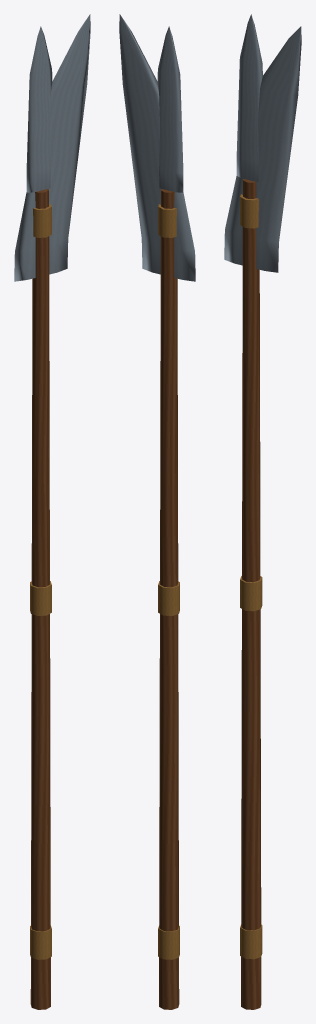
The model's file is glaive.lod2.glb.
The picture shows the model from 3 angles, left to right: view 1: azimuth 30°, elevation 25°; view 2: azimuth 150°, elevation 25°; view 3: azimuth 330°, elevation 25°; orthographic projection.
Visible parts, largest first — view 1: wood.0, blade (×2), brass.2, brass.1, brass.3; view 2: wood.0, blade (×2), brass.2, brass.1, brass.3; view 3: wood.0, blade (×2), brass.2, brass.1, brass.3.
Boxes of the visible parts, left/top/right/bottom form: wood.0: left=30, top=189, right=50, bottom=1009; blade (×2): left=14, top=14, right=90, bottom=281; brass.2: left=30, top=581, right=51, bottom=615; brass.1: left=30, top=925, right=51, bottom=959; brass.3: left=33, top=204, right=51, bottom=237; wood.0: left=159, top=189, right=179, bottom=1009; blade (×2): left=119, top=14, right=195, bottom=281; brass.2: left=158, top=581, right=179, bottom=615; brass.1: left=158, top=925, right=179, bottom=959; brass.3: left=158, top=204, right=176, bottom=237; wood.0: left=241, top=179, right=261, bottom=1009; blade (×2): left=224, top=14, right=301, bottom=272; brass.2: left=240, top=576, right=262, bottom=611; brass.1: left=240, top=924, right=262, bottom=959; brass.3: left=240, top=194, right=258, bottom=228.
Size of the model in its own units: 0.1866 by 2.28 by 0.048.
Materials: 3 (3 with a texture image).
